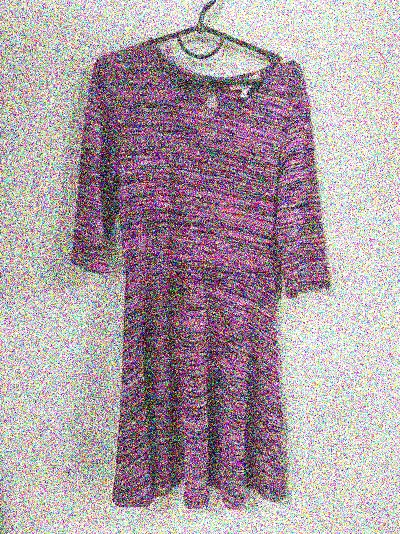Dress: (46, 33, 348, 521)
